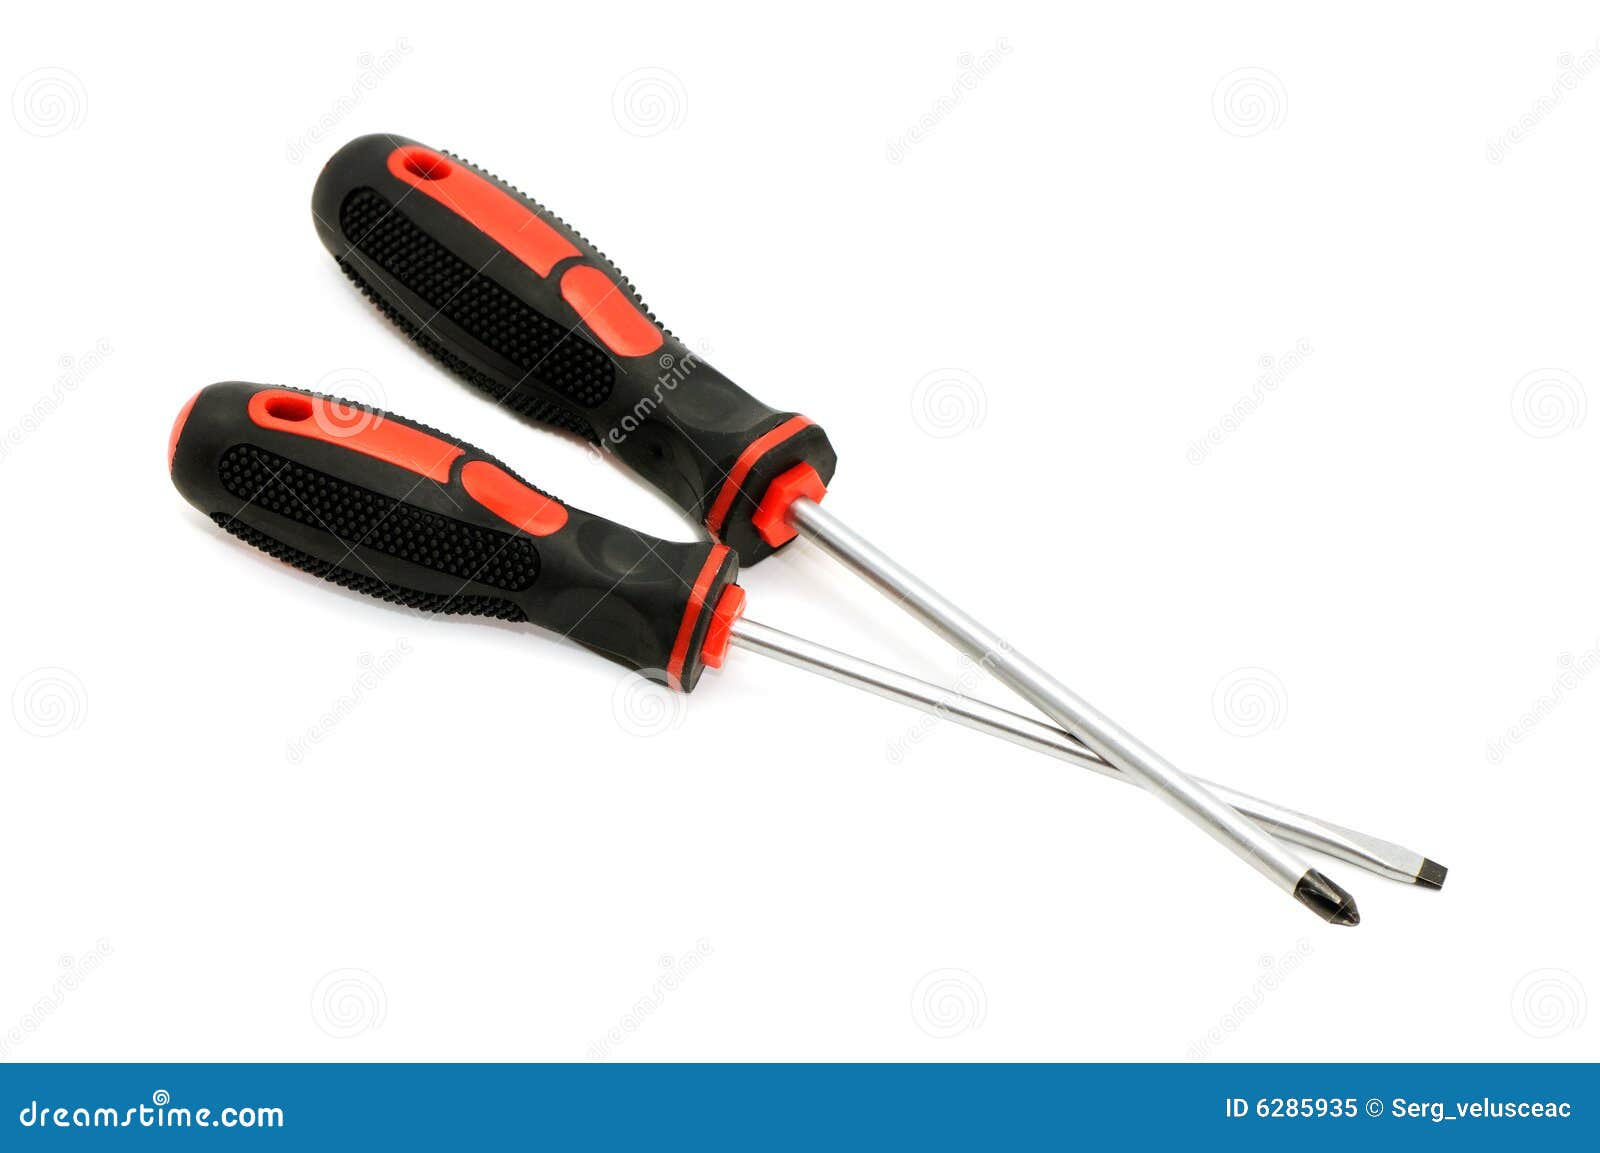screwdriver: (312, 130, 1364, 931), (164, 379, 1450, 890)
